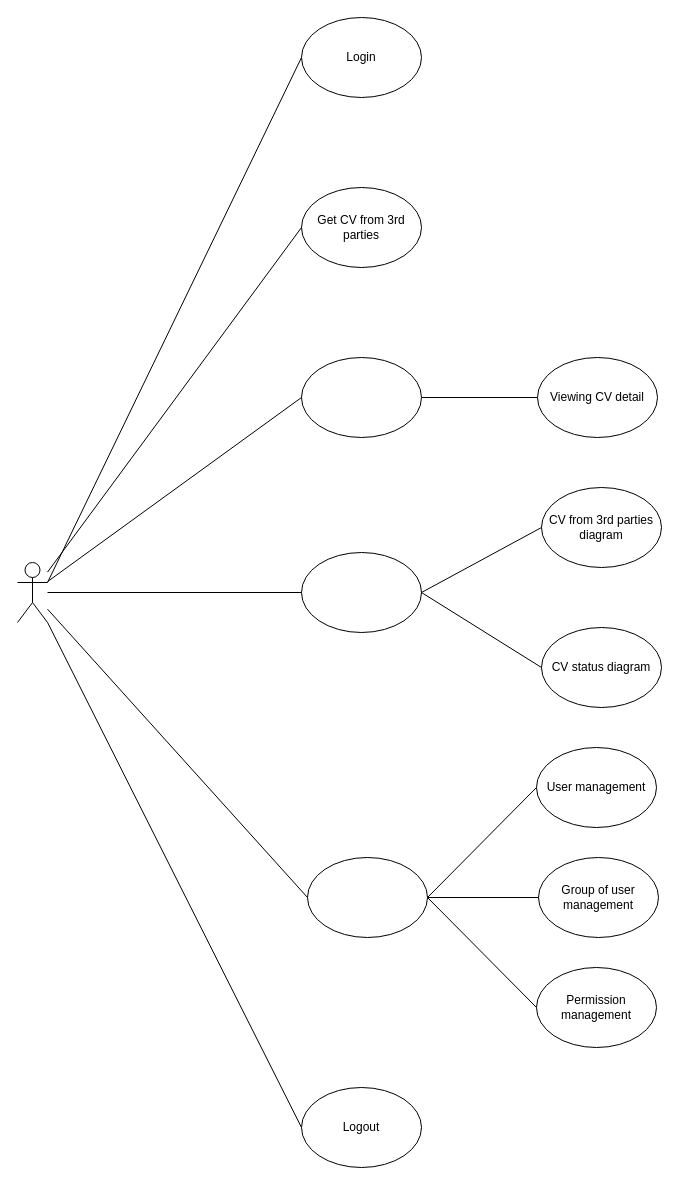
Some shapes in this 679 by 1185 pixel diagram are drawn without their labels. The shapes that lost their labels are listed below. From the top down, each one's centre as x and y in pixels, then its label:
the point at 361,397: CV list management
the point at 32,592: User
the point at 361,592: Dashboard
the point at 367,897: User and permission management
